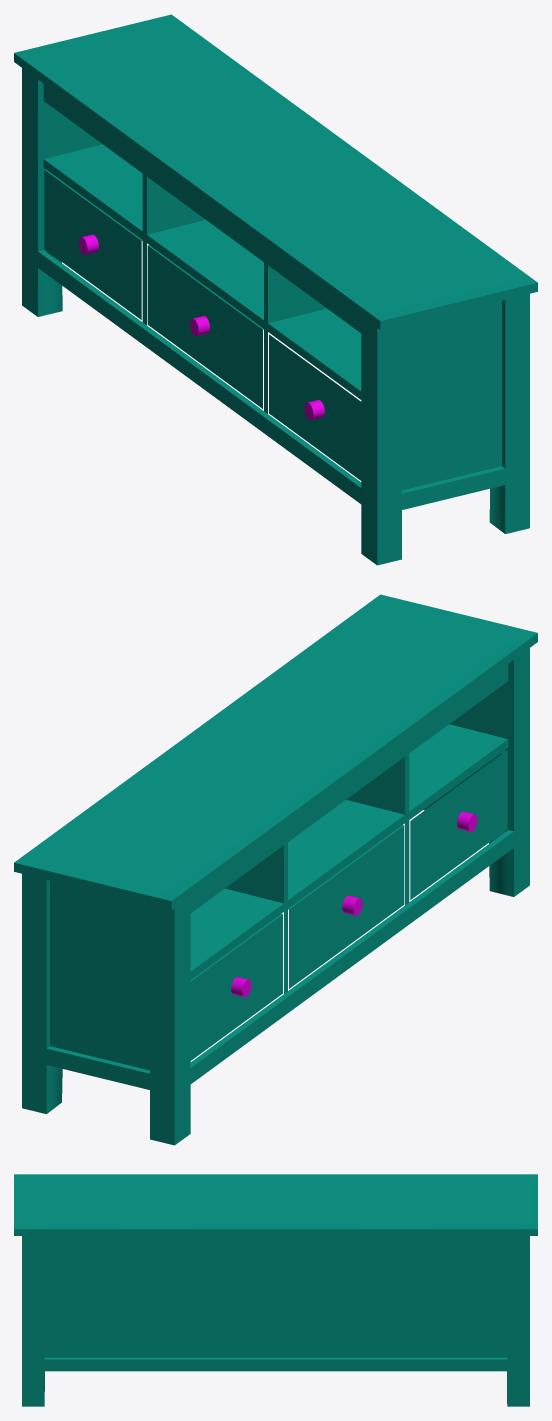
Rendered from L_TableTV.fbx.
3 views of the same model, one above another, from view 1: azimuth 30°, elevation 25°; view 2: azimuth 150°, elevation 25°; view 3: azimuth 270°, elevation 25° (orthographic). The views are drawn at different scales.
Visible parts, largest first — view 1: L_TableTV; view 2: L_TableTV; view 3: L_TableTV.
Boxes of the visible parts, left/top/right/bottom form: L_TableTV: left=14, top=14, right=537, bottom=565; L_TableTV: left=14, top=594, right=537, bottom=1145; L_TableTV: left=14, top=1174, right=537, bottom=1406.
Bounding box in the file's own units: 55.14 × 81.61 × 218.
